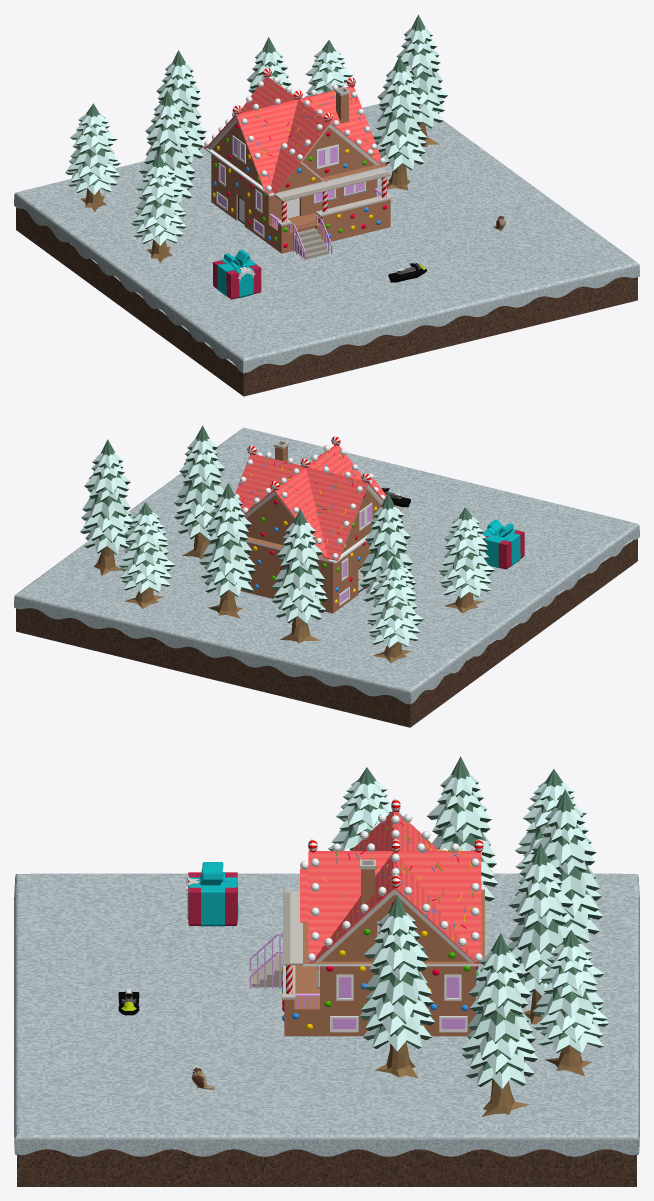
3 views of the same model, one above another, from view 1: azimuth 30°, elevation 25°; view 2: azimuth 150°, elevation 25°; view 3: azimuth 270°, elevation 25° (orthographic). The views are drawn at different scales.
Visible parts, largest first — view 1: Cube.003, Cube.1203, OBJRANDOM_GIANT_PRESENT; view 2: Cube.003, Cube.1203, OBJRANDOM_GIANT_PRESENT; view 3: Cube.003, Cube.1203, OBJRANDOM_GIANT_PRESENT.
Boxes of the visible parts, x1,y1,x2,y2 form: Cube.003: (14, 14, 639, 396); Cube.1203: (202, 68, 393, 260); OBJRANDOM_GIANT_PRESENT: (213, 249, 261, 299); Cube.003: (14, 425, 639, 727); Cube.1203: (234, 436, 405, 613); OBJRANDOM_GIANT_PRESENT: (482, 519, 524, 569); Cube.003: (14, 756, 639, 1186); Cube.1203: (249, 799, 484, 1036); OBJRANDOM_GIANT_PRESENT: (186, 862, 238, 926).
Bounding box in the file's own units: 4040 × 1692 × 4040.
Materials: 35 (4 with a texture image).
